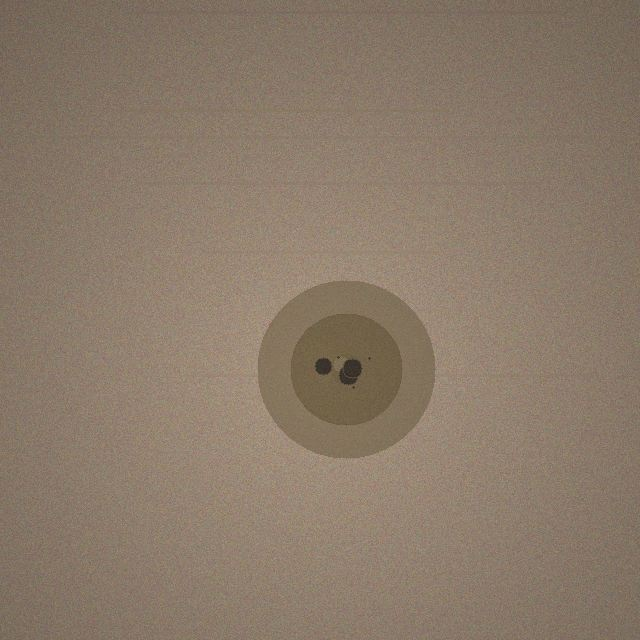shrinkage: (257, 280, 435, 458)
